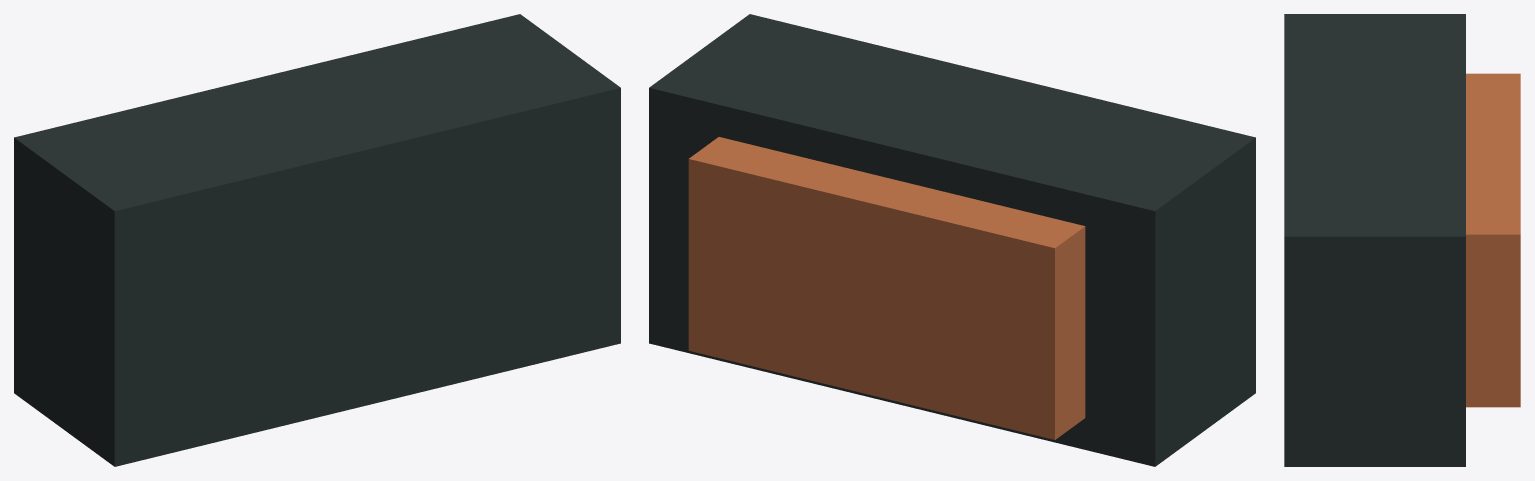
The model's file is emergency_lamp.glb.
3 views of the same model, side by side, from view 1: azimuth 30°, elevation 25°; view 2: azimuth 150°, elevation 25°; view 3: azimuth 270°, elevation 25° (orthographic). The views are drawn at different scales.
Parts seen in each view (by area): view 1: emergency_lamp; view 2: emergency_lamp; view 3: emergency_lamp.
Part boxes in pixels (x1,y1,x2,y2): emergency_lamp: (14,14,620,466); emergency_lamp: (649,14,1255,466); emergency_lamp: (1284,14,1520,466).
Size of the model in its own units: 0.29 by 0.14 by 0.13.
